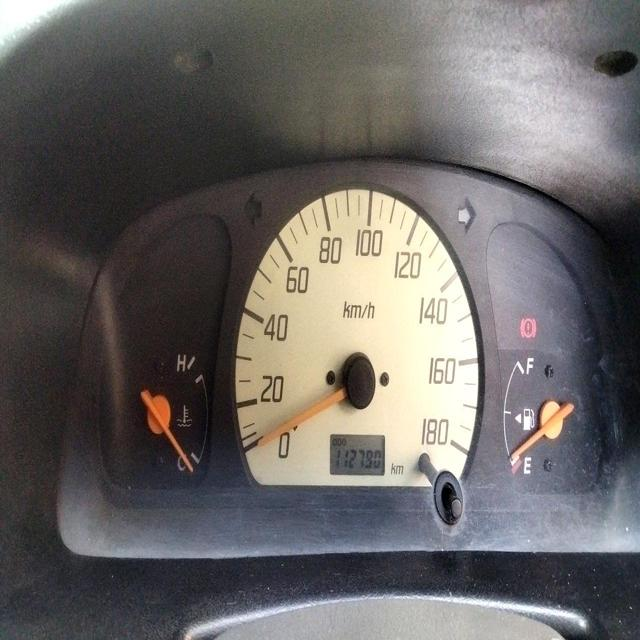odometer: (335, 445, 382, 472)
